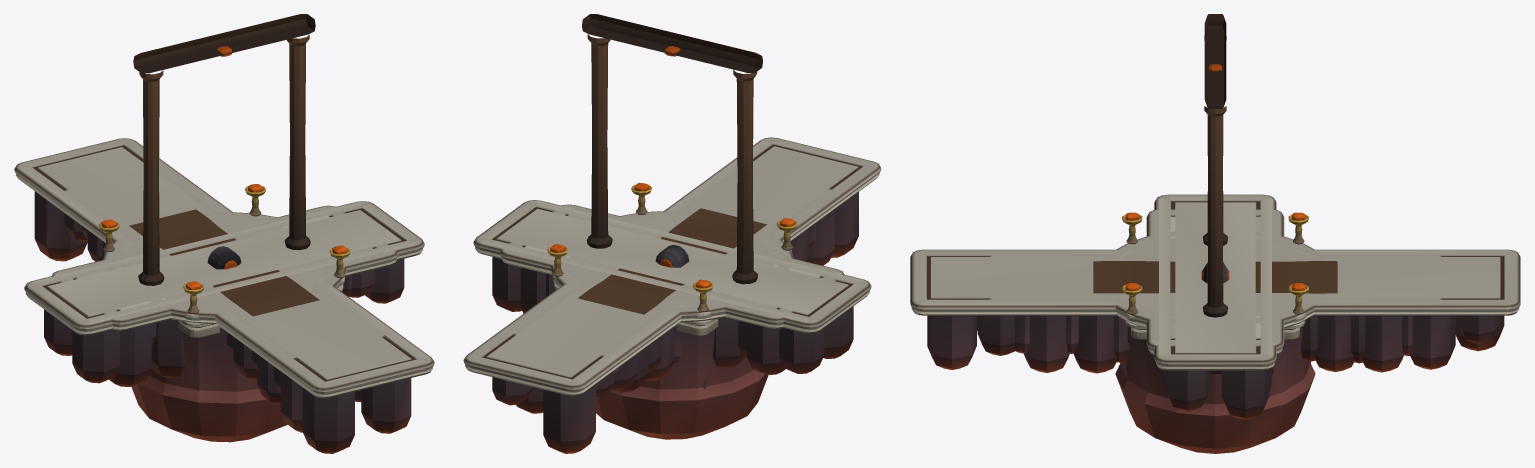
Rendered from volcano-2-B_dTXhSq.glb.
3 views of the same model, side by side, from view 1: azimuth 30°, elevation 25°; view 2: azimuth 150°, elevation 25°; view 3: azimuth 270°, elevation 25° (orthographic).
Visible parts, largest first — view 1: block_9x2x40_grate#1, block_26x2x8_grate#0, disc_16x1.5#0, pressFrame_9x6x4x7#0, block_21.5x2x9#0, beam_5x1.5x16_plank#1, pad_12x2x12#1, block_8x2x30_grate#1, blade_3x12x1#0; view 2: block_9x2x40_grate#1, block_26x2x8_grate#0, disc_16x1.5#0, pressFrame_9x6x4x7#0, block_21.5x2x9#0, beam_5x1.5x16_plank#1, block_8x2x30_grate#1, pad_12x2x12#1, blade_3x12x1#0; view 3: block_9x2x40_grate#1, block_26x2x8_grate#0, disc_16x1.5#0, pressFrame_9x6x4x7#0, block_8x2x30_grate#1, beam_5x1.5x16_plank#1, pad_12x2x12#1, block_21.5x2x9#0.
Boxes of the visible parts, x1,y1,x2,y2 form: block_9x2x40_grate#1: [14, 138, 434, 453]; block_26x2x8_grate#0: [24, 201, 424, 383]; disc_16x1.5#0: [102, 212, 346, 442]; pressFrame_9x6x4x7#0: [133, 14, 315, 285]; block_21.5x2x9#0: [51, 205, 398, 386]; beam_5x1.5x16_plank#1: [129, 209, 319, 316]; pad_12x2x12#1: [98, 184, 350, 337]; block_8x2x30_grate#1: [64, 170, 384, 393]; blade_3x12x1#0: [207, 246, 241, 269]; block_9x2x40_grate#1: [463, 137, 881, 453]; block_26x2x8_grate#0: [473, 200, 871, 373]; disc_16x1.5#0: [550, 211, 793, 439]; pressFrame_9x6x4x7#0: [582, 14, 762, 284]; block_21.5x2x9#0: [499, 204, 844, 374]; beam_5x1.5x16_plank#1: [578, 208, 766, 314]; block_8x2x30_grate#1: [513, 169, 831, 392]; pad_12x2x12#1: [547, 182, 797, 388]; blade_3x12x1#0: [655, 244, 689, 267]; block_9x2x40_grate#1: [910, 249, 1520, 373]; block_26x2x8_grate#0: [1154, 194, 1276, 419]; disc_16x1.5#0: [1105, 231, 1325, 453]; pressFrame_9x6x4x7#0: [1203, 14, 1227, 317]; block_8x2x30_grate#1: [988, 255, 1442, 363]; beam_5x1.5x16_plank#1: [1093, 261, 1337, 293]; pad_12x2x12#1: [1122, 212, 1308, 339]; block_21.5x2x9#0: [1146, 209, 1284, 391].
Size of the model in its own units: 26 by 27.88 by 40.
